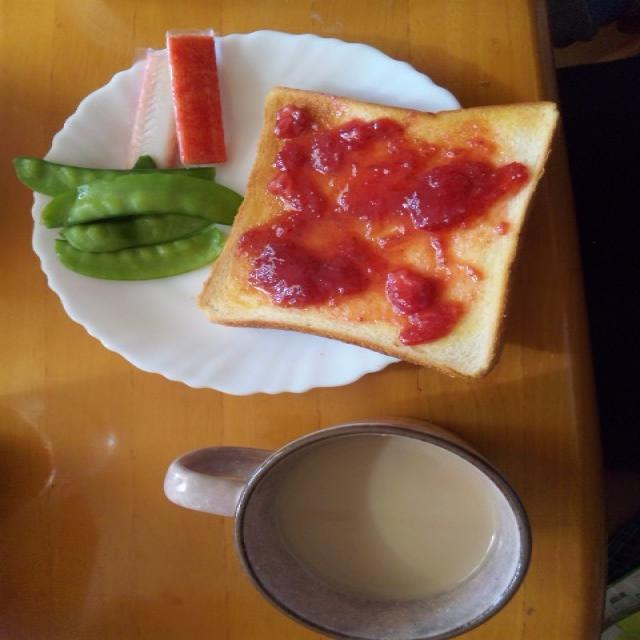面包点心: (346, 146, 640, 432)
